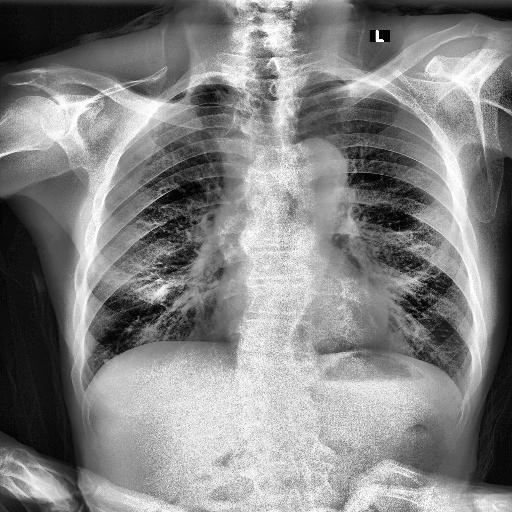0- Aortic enlargement: (280, 134, 343, 208), (288, 136, 348, 204), (290, 136, 348, 188)
9- Other lesion: (103, 359, 109, 364)
